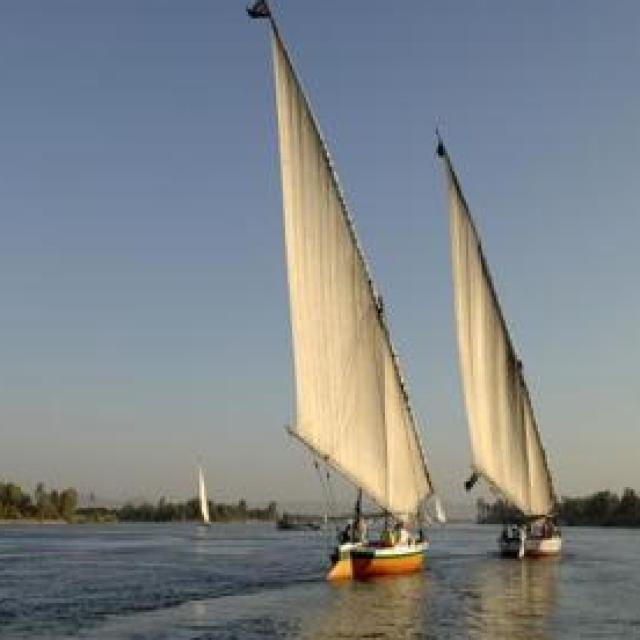sailboat: (241, 0, 431, 580), (414, 120, 572, 564)
